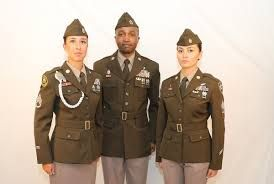uniform: (95, 48, 157, 178), (161, 72, 221, 176), (43, 63, 100, 163)
